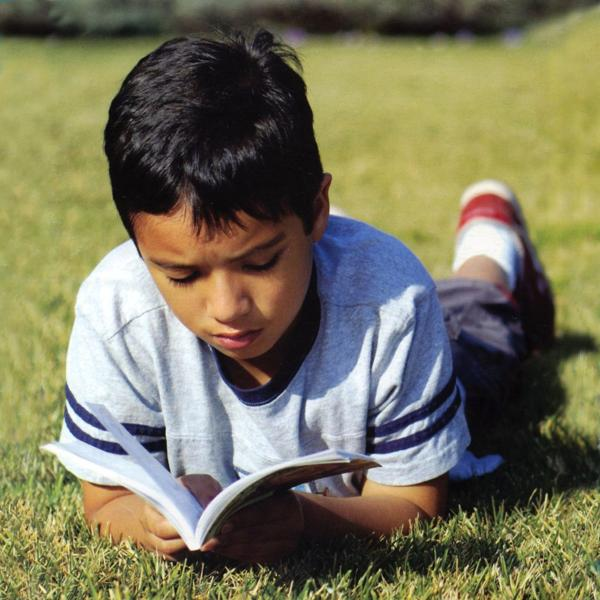person: (43, 26, 558, 566)
